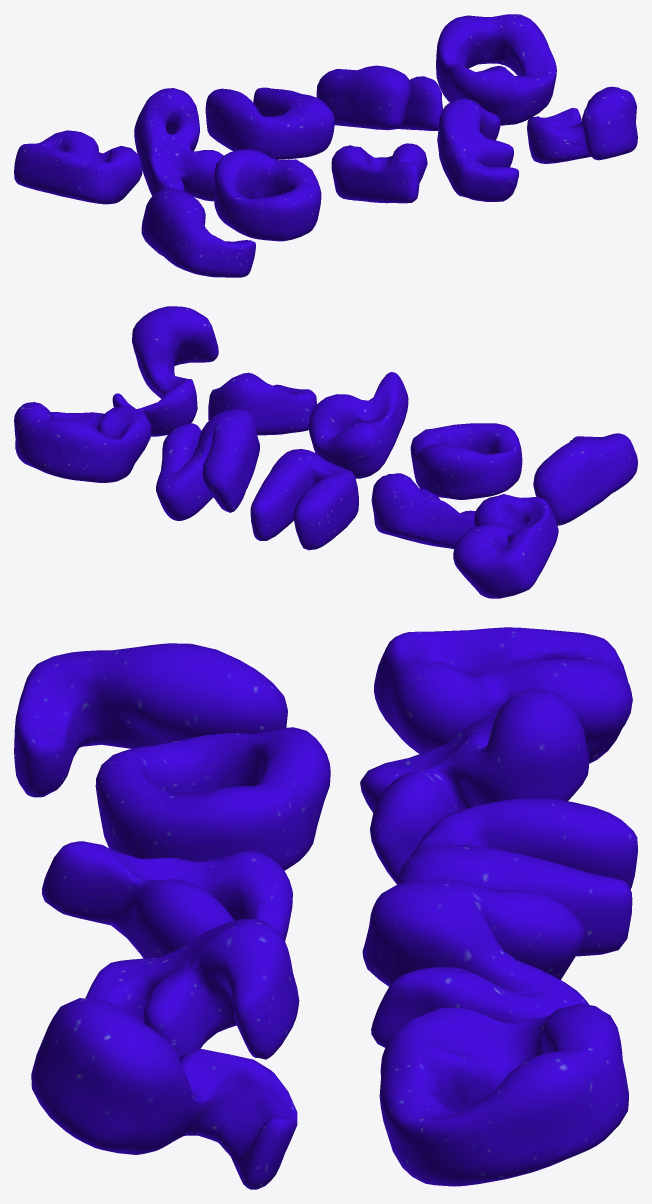
The model's file is Name1.glb.
3 renders of one model, top to bottom at view 1: azimuth 30°, elevation 25°; view 2: azimuth 150°, elevation 25°; view 3: azimuth 270°, elevation 25°, orthographic. The views are drawn at different scales.
Parts seen in each view (by area): view 1: O.Top, O.Bot, U, B, N, R, E, L, S, P; view 2: O.Top, N, B, U, S, O.Bot, P, L, R, E; view 3: O.Top, S, N, O.Bot, L, B, U, R, P, E.
Part boxes in pixels (bbox=[...]): O.Top: bbox=[436, 14, 556, 125]; O.Bot: bbox=[214, 149, 321, 241]; U: bbox=[205, 87, 334, 159]; B: bbox=[14, 130, 142, 204]; N: bbox=[316, 65, 442, 130]; R: bbox=[134, 88, 223, 201]; E: bbox=[437, 98, 518, 201]; L: bbox=[141, 187, 255, 277]; S: bbox=[527, 86, 637, 163]; P: bbox=[331, 143, 427, 203]; O.Top: bbox=[14, 402, 151, 482]; N: bbox=[156, 409, 259, 520]; B: bbox=[453, 494, 558, 598]; U: bbox=[250, 449, 358, 550]; S: bbox=[112, 306, 218, 436]; O.Bot: bbox=[410, 423, 522, 499]; P: bbox=[308, 372, 408, 478]; L: bbox=[533, 433, 637, 525]; R: bbox=[371, 473, 475, 549]; E: bbox=[208, 372, 316, 435]; O.Top: bbox=[379, 1003, 628, 1186]; S: bbox=[31, 998, 297, 1189]; N: bbox=[362, 879, 588, 1047]; O.Bot: bbox=[95, 727, 330, 870]; L: bbox=[14, 643, 287, 797]; B: bbox=[374, 627, 632, 763]; U: bbox=[397, 798, 637, 956]; R: bbox=[360, 689, 589, 884]; P: bbox=[42, 841, 292, 958]; E: bbox=[85, 919, 299, 1059].
Bounding box in the file's own units: 3.86 × 0.6601 × 2.08.
Materials: 1 (1 with a texture image).
